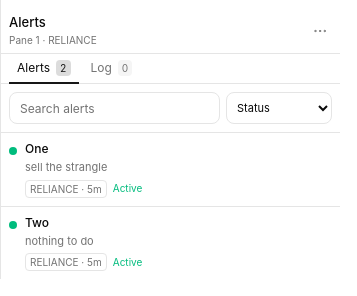
Scenario: the alert list on the rail › searches the message and the symbol, not only the name
This screenshot has width=357, height=296.
Type "strangle" into the search field labelled "Search alerts" at (114, 108), box [9, 92, 220, 124]
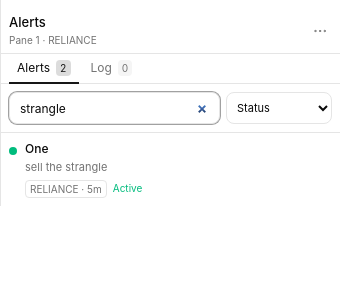
Check: the text "sell the strangle" is shown, box [25, 160, 107, 174]
Check: the text "nothing to do" is gone
